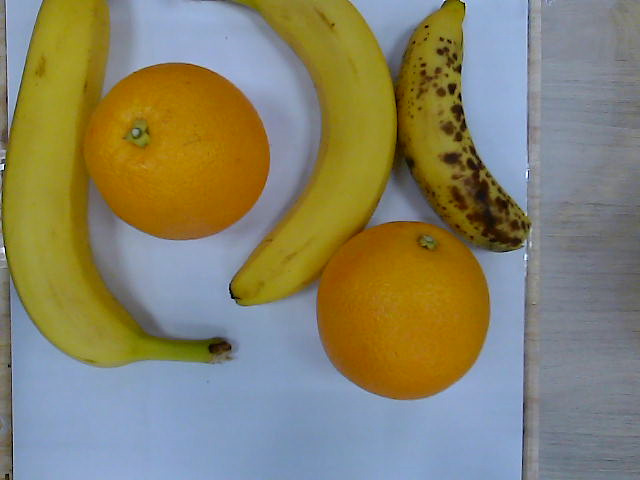fresh_banana: (3, 1, 149, 368), (232, 2, 397, 306)
fresh_orange: (81, 62, 272, 243), (317, 219, 492, 401)
rotten_banana: (398, 1, 533, 254)
